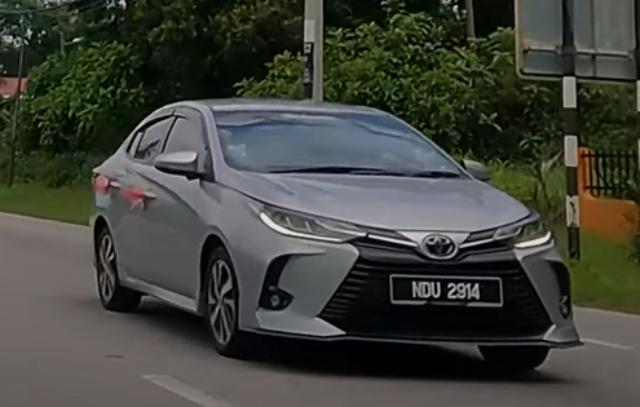License_Plate: (388, 273, 505, 309)
car: (89, 97, 585, 372)
